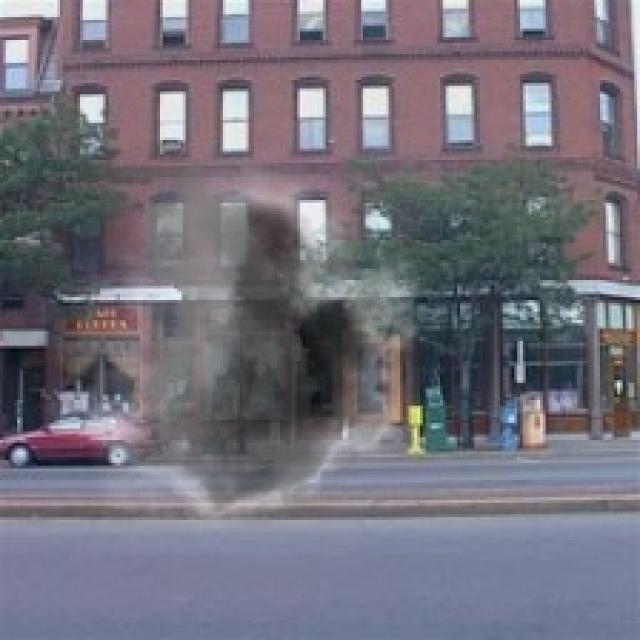smoke: (37, 163, 440, 546)
